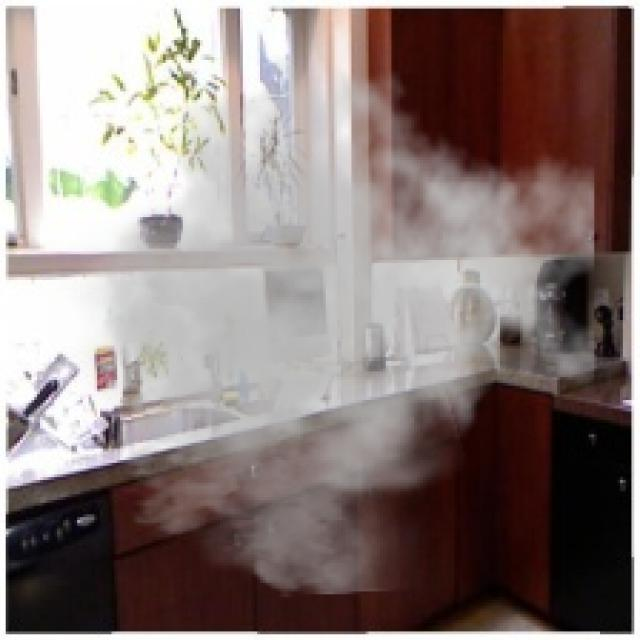smoke: (51, 52, 594, 597)
